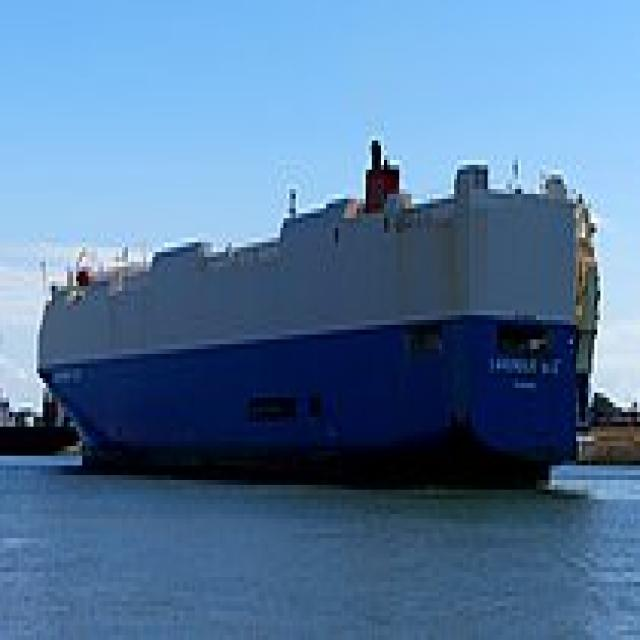Carrier: (31, 131, 604, 499)
